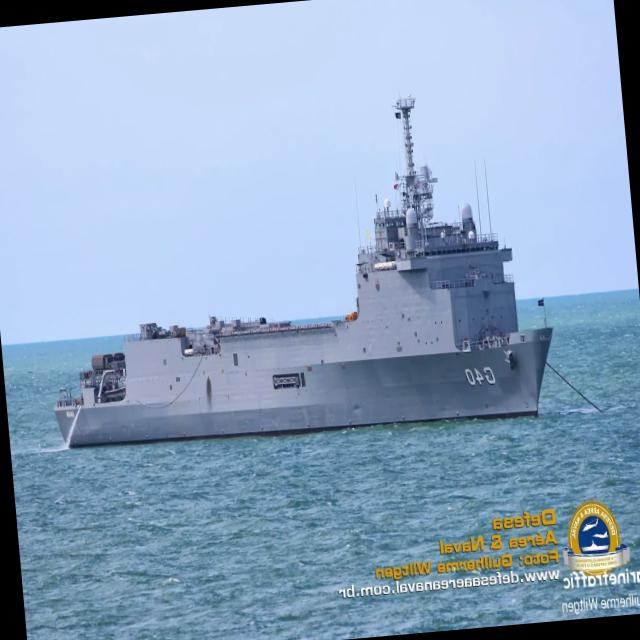Military: (55, 98, 552, 447)
